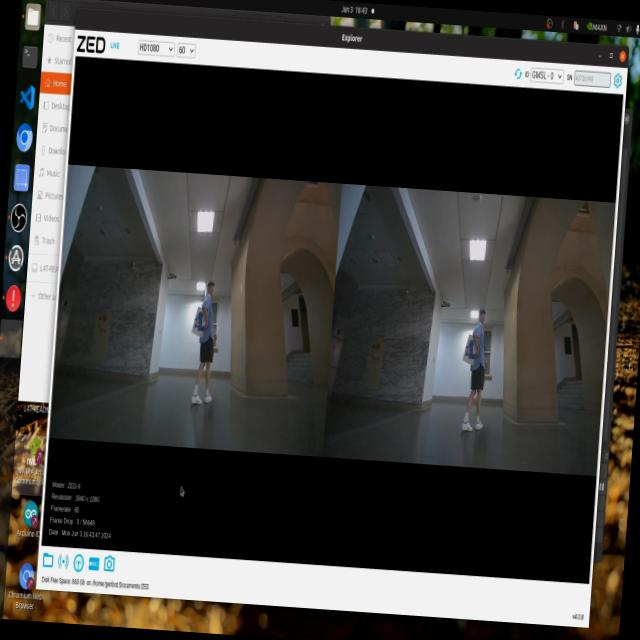blue: (462, 328, 481, 359), (192, 299, 206, 339)
